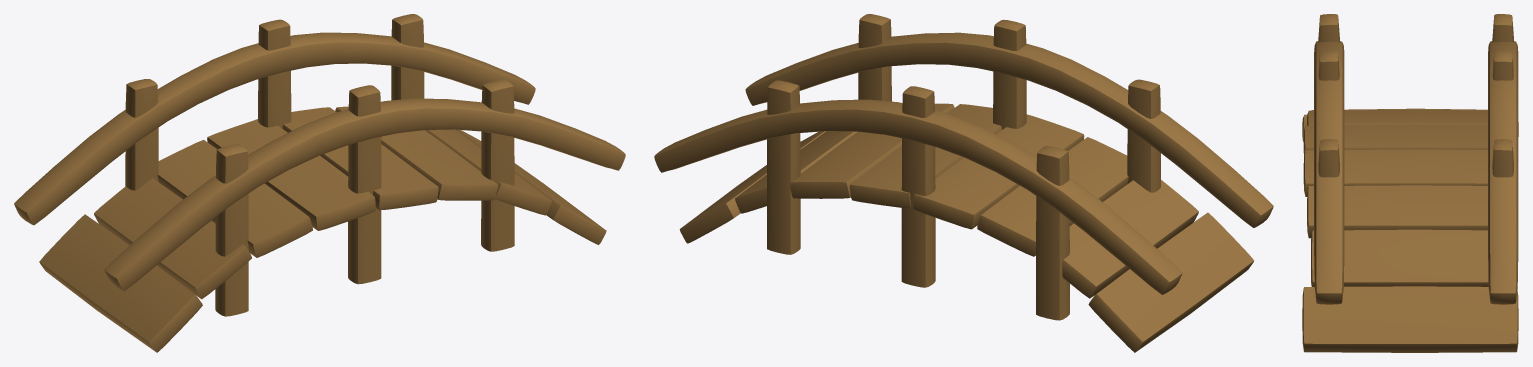
The model's file is bridge.glb.
3 views of the same model, side by side, from view 1: azimuth 30°, elevation 25°; view 2: azimuth 150°, elevation 25°; view 3: azimuth 270°, elevation 25° (orthographic). The views are drawn at different scales.
Visible parts, largest first — view 1: Bridge_Small; view 2: Bridge_Small; view 3: Bridge_Small.
Boxes of the visible parts, x1,y1,x2,y2 form: Bridge_Small: [14, 14, 625, 352]; Bridge_Small: [654, 14, 1273, 352]; Bridge_Small: [1302, 14, 1518, 352].
Bounding box in the file's own units: 6.94 × 2.62 × 2.64.
